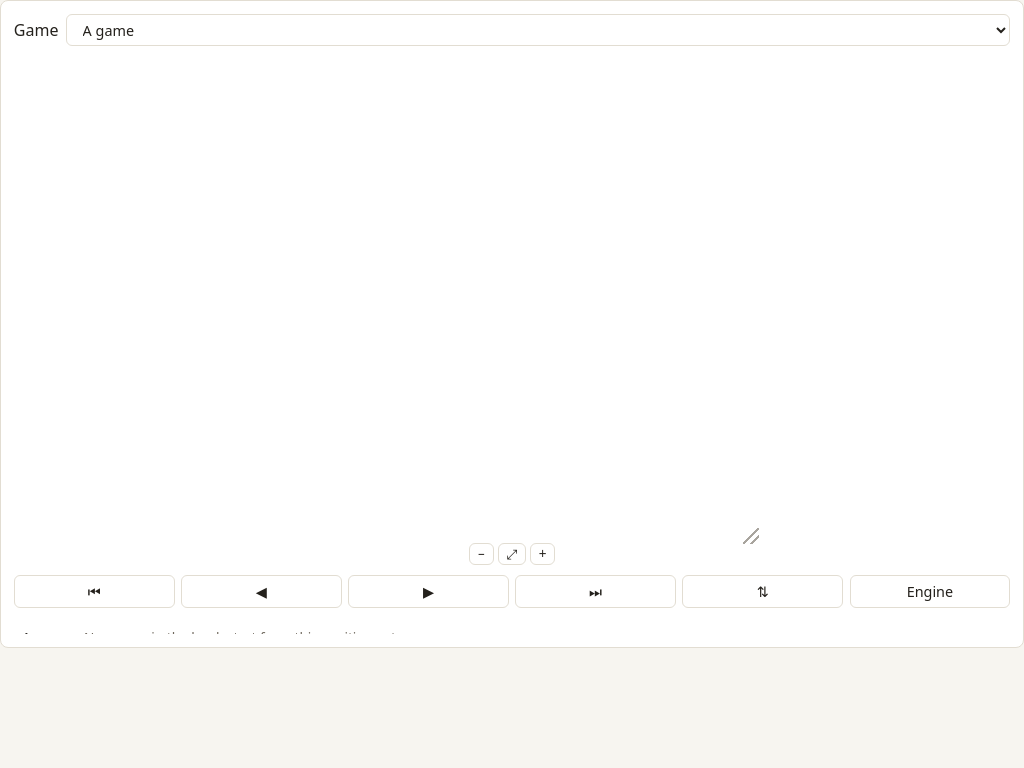
Test: the engine while reading › opens from the button under the board or with E, and says when a position cannot be analysed
The width and height of the screenshot is (1024, 768).
Click the button "Engine" at (930, 591), box [850,575,1010,608]
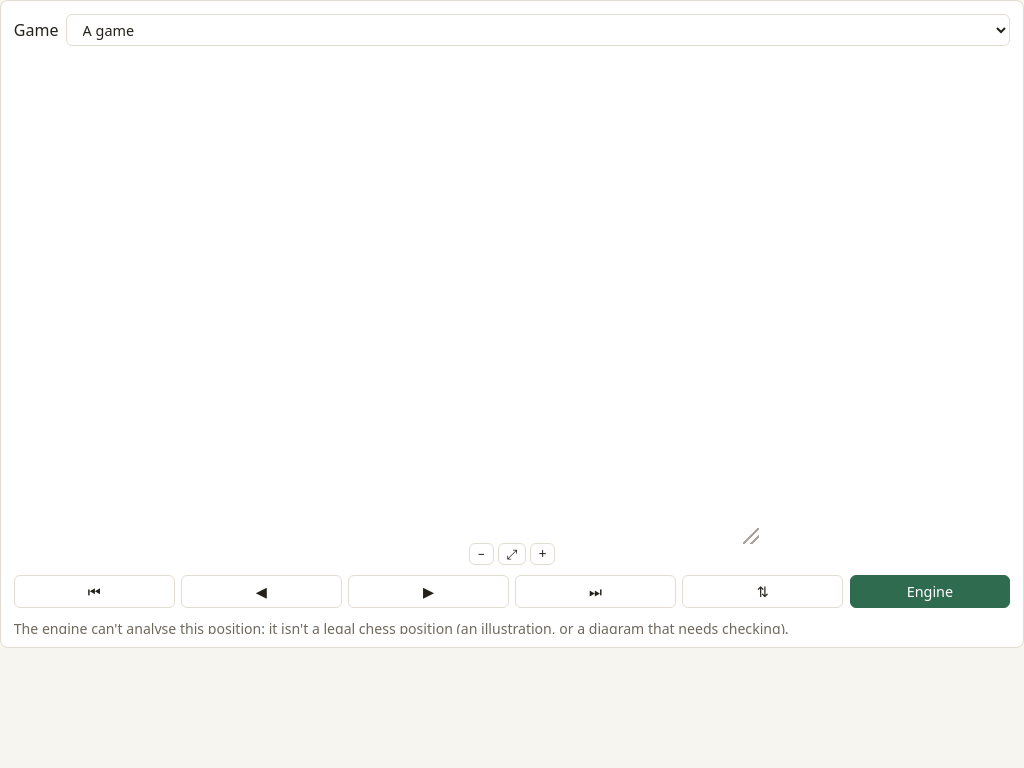
Now the text "can't analyse this position" is shown, box [14,619,789,634]
Press e
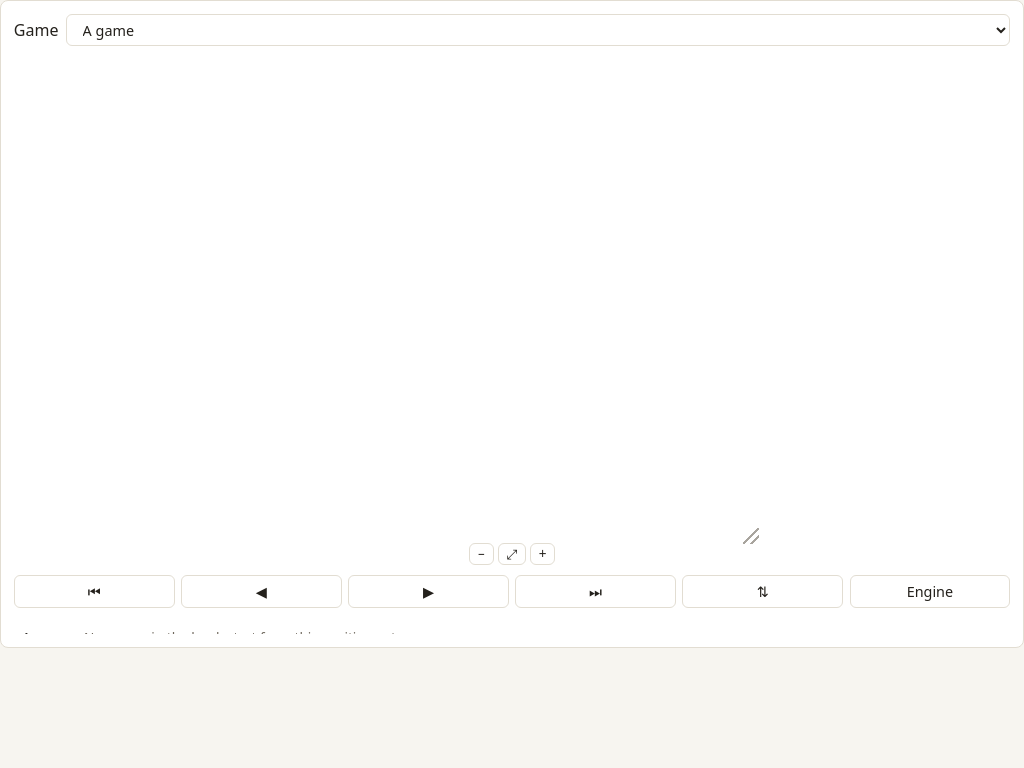
Now the text "can't analyse this position" is gone
